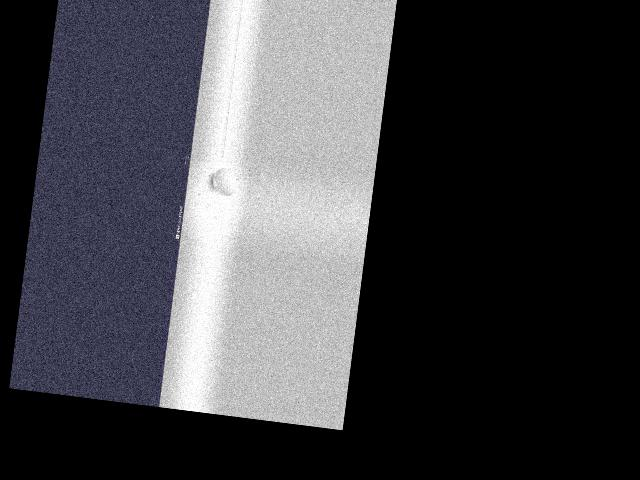egg: (210, 166, 238, 196)
